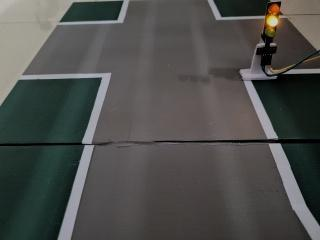yellow: (256, 0, 287, 45)
